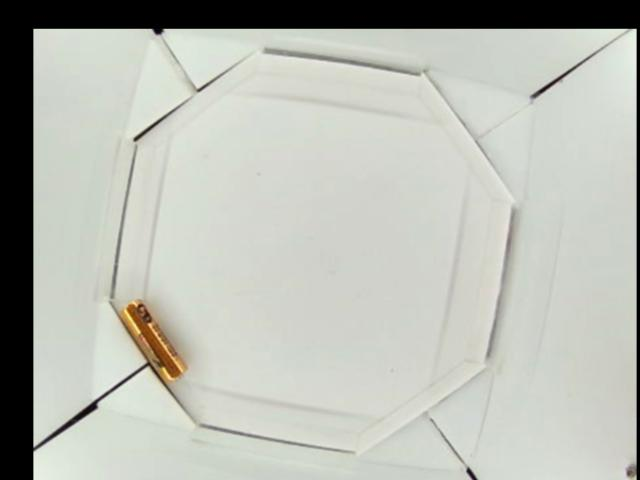Battery: (121, 300, 186, 381)
